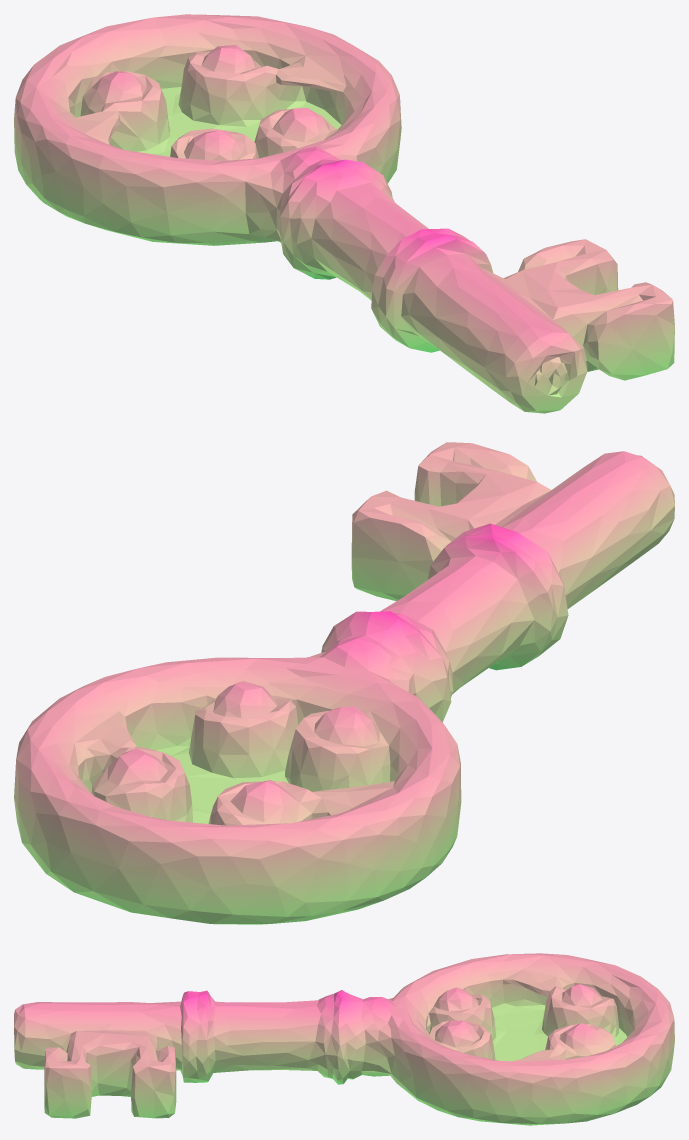
The model's file is 59_cyb_laser_gradient_fish_scales_2836_2026_10_03_aaf7f6.glb.
3 renders of one model, top to bottom at view 1: azimuth 30°, elevation 25°; view 2: azimuth 150°, elevation 25°; view 3: azimuth 270°, elevation 25°, orthographic. The views are drawn at different scales.
Parts seen in each view (by area): view 1: geometry_0; view 2: geometry_0; view 3: geometry_0.
Part boxes in pixels (x1=…): geometry_0: x1=14, y1=14, x2=674, y2=413; geometry_0: x1=14, y1=442, x2=674, y2=924; geometry_0: x1=14, y1=953, x2=674, y2=1125.
Size of the model in its own units: 0.4394 by 0.1432 by 1.
